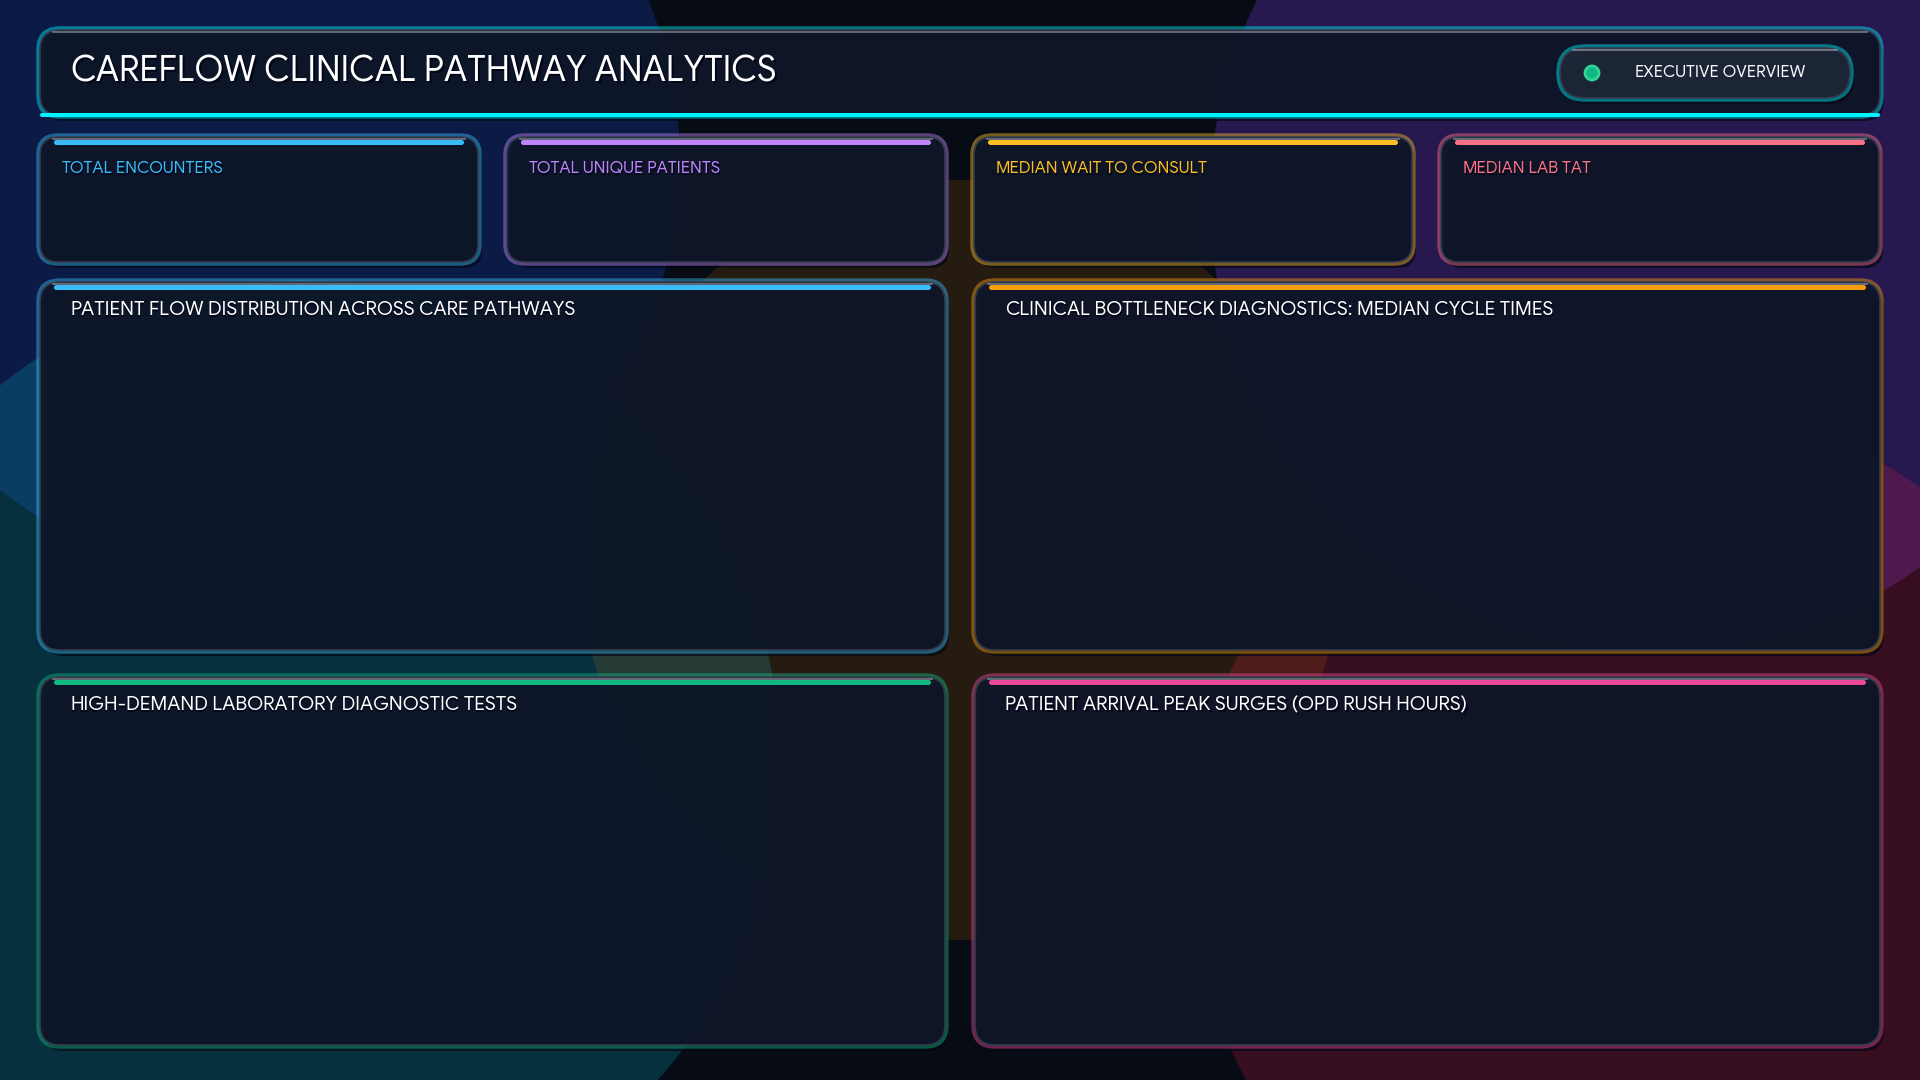

What the dashboard file says about the page in this screenshot:
{"tool":"powerbi","page":{"name":"Page 1","canvas":[1920,1080],"ordinal":0},"visuals":[{"type":"cardVisual","fields":{"Data":["Measure.Total Encounters"]},"box":[54.9,153.7,386.9,118],"z":0},{"type":"cardVisual","fields":{"Data":["Measure.Total Patients"]},"box":[543.3,153.7,299.1,118],"z":1000},{"type":"cardVisual","fields":{"Data":["Measure.Median Wait to Consult"]},"box":[1025.7,154.4,299.1,118],"z":2000},{"type":"cardVisual","fields":{"Data":["Measure.Median Lab TAT (Hours)"]},"box":[1479,153.7,299.1,118],"z":3000},{"type":"clusteredBarChart","fields":{"Category":["cleaned_HospitalOPD.flow_name"],"Y":["Measure.Total Encounters"]},"box":[54.9,323.8,872.6,315.6],"z":4000},{"type":"clusteredColumnChart","fields":{"Y":["Measure.Median Wait to Consult","Measure.Median Consult Duration","Measure.Median Wait to Lab","Measure.Median Wait to Imaging"]},"box":[987.8,332,883.6,307.3],"z":5000},{"type":"clusteredBarChart","fields":{"Category":["cleaned_HospitalOPD.lab_name"],"Y":["Measure.Total Lab Orders"]},"box":[54.9,716.2,872.6,321.1],"z":6000},{"type":"lineChart","fields":{"Category":["cleaned_HospitalOPD.ArrivalHour"],"Y":["Measure.Total Encounters"]},"box":[1002.6,716.8,868.5,320],"z":7000},{"type":"listSlicer","fields":{"Values":["cleaned_HospitalOPD.flow_name"]},"box":[1025.7,25.4,530.1,85.3],"z":8000}]}

Visuals, with their boxes in screenshot pixels (x1, y1, x2, y2), scaled from the page's 1920x1080 canvas onto the 1920x1080 screenshot:
cardVisual - Measure.Total Encounters: bbox=(55, 154, 442, 272)
cardVisual - Measure.Total Patients: bbox=(543, 154, 842, 272)
cardVisual - Measure.Median Wait to Consult: bbox=(1026, 154, 1325, 272)
cardVisual - Measure.Median Lab TAT (Hours): bbox=(1479, 154, 1778, 272)
clusteredBarChart - cleaned_HospitalOPD.flow_name x Measure.Total Encounters: bbox=(55, 324, 928, 639)
clusteredColumnChart - Measure.Median Wait to Consult x Measure.Median Consult Duration: bbox=(988, 332, 1871, 639)
clusteredBarChart - cleaned_HospitalOPD.lab_name x Measure.Total Lab Orders: bbox=(55, 716, 928, 1037)
lineChart - cleaned_HospitalOPD.ArrivalHour x Measure.Total Encounters: bbox=(1003, 717, 1871, 1037)
listSlicer - cleaned_HospitalOPD.flow_name: bbox=(1026, 25, 1556, 111)
